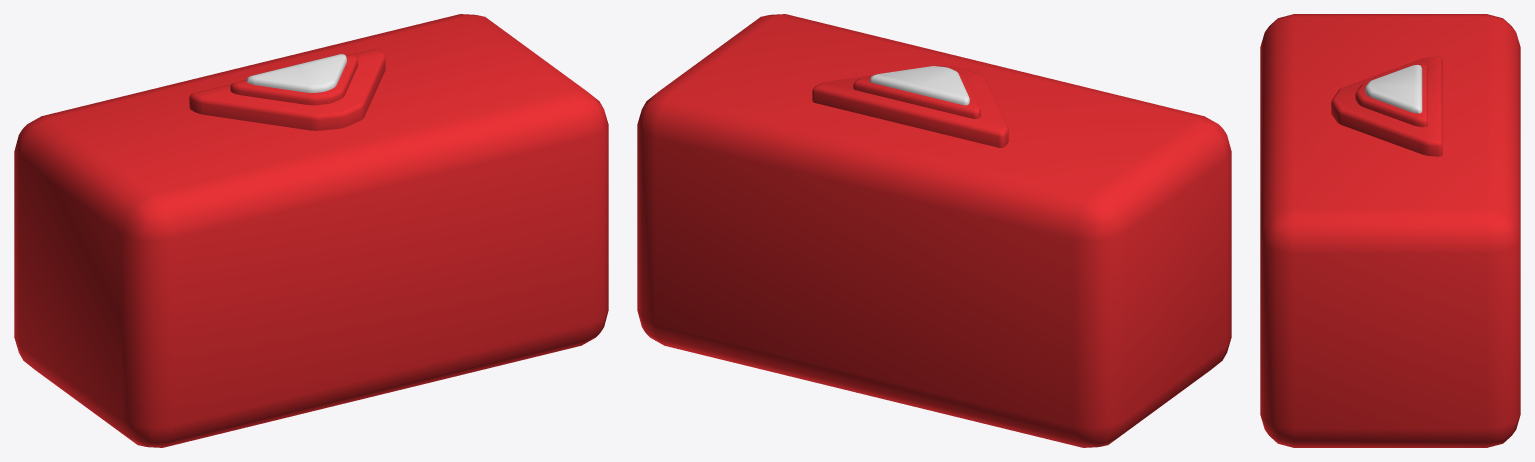
The model's file is Shredder.glb.
The picture shows the model from 3 angles, left to right: view 1: azimuth 30°, elevation 25°; view 2: azimuth 150°, elevation 25°; view 3: azimuth 270°, elevation 25°; orthographic projection. The views are drawn at different scales.
Visible parts, largest first — view 1: Shredder, ShredderTop; view 2: Shredder, ShredderTop; view 3: Shredder, ShredderTop.
Part boxes in pixels (x1,y1,x2,y2): Shredder: [14, 14, 608, 447]; ShredderTop: [189, 49, 385, 130]; Shredder: [637, 14, 1231, 447]; ShredderTop: [812, 65, 1008, 147]; Shredder: [1260, 14, 1520, 447]; ShredderTop: [1331, 56, 1442, 156].
Size of the model in its own units: 2 by 1.12 by 1.
